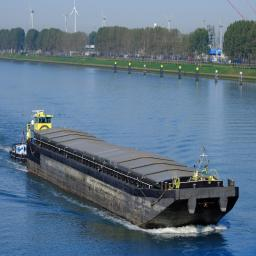tugboat: (10, 106, 60, 167)
